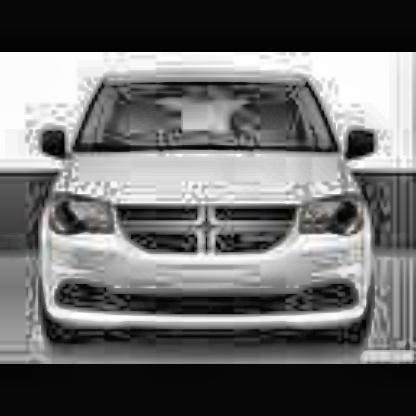Ram C-V Cargo Van Minivan 2012: (11, 56, 397, 364)
